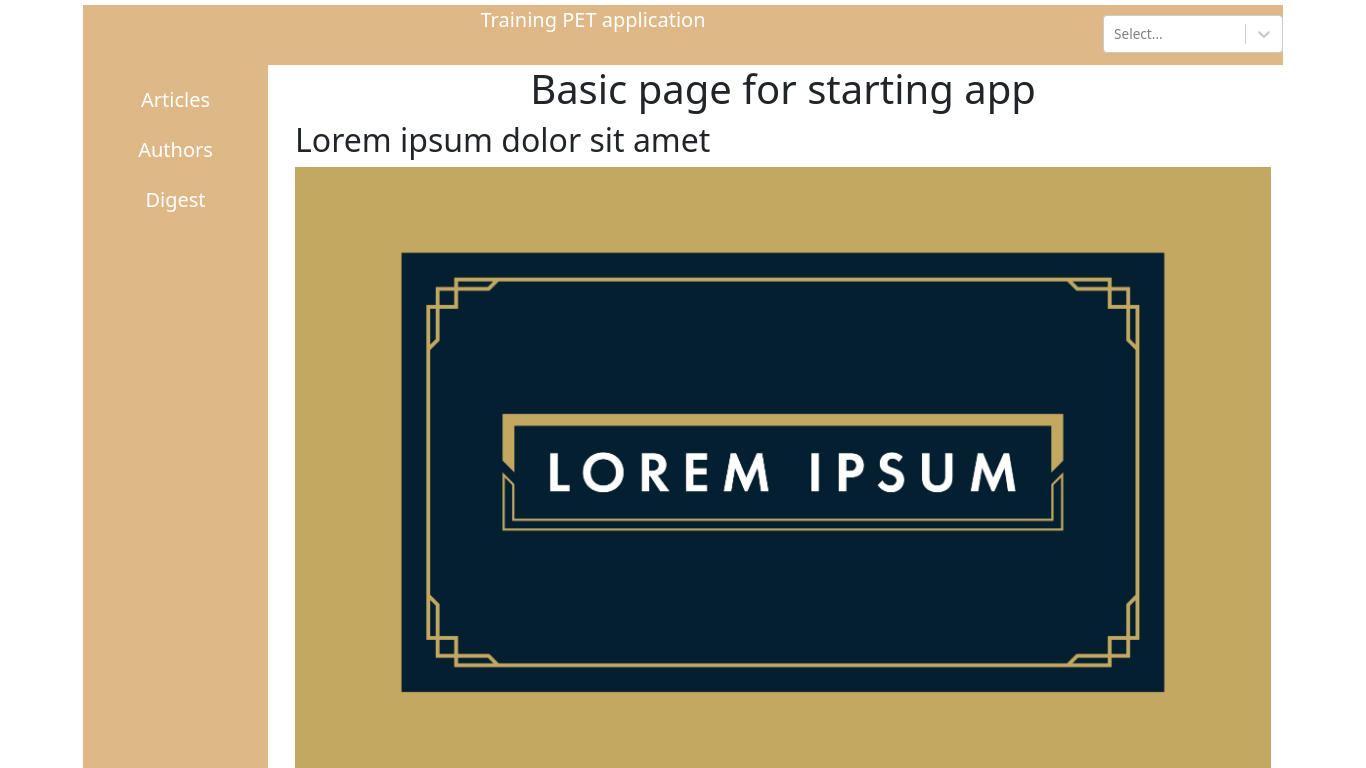
full app rendering/navigating/article
This screenshot has width=1366, height=768.
Expected: the heading "Basic page for starting app" is shown, [530, 61, 1036, 116]
Click the link "Articles": (176, 100) [141, 86, 210, 113]
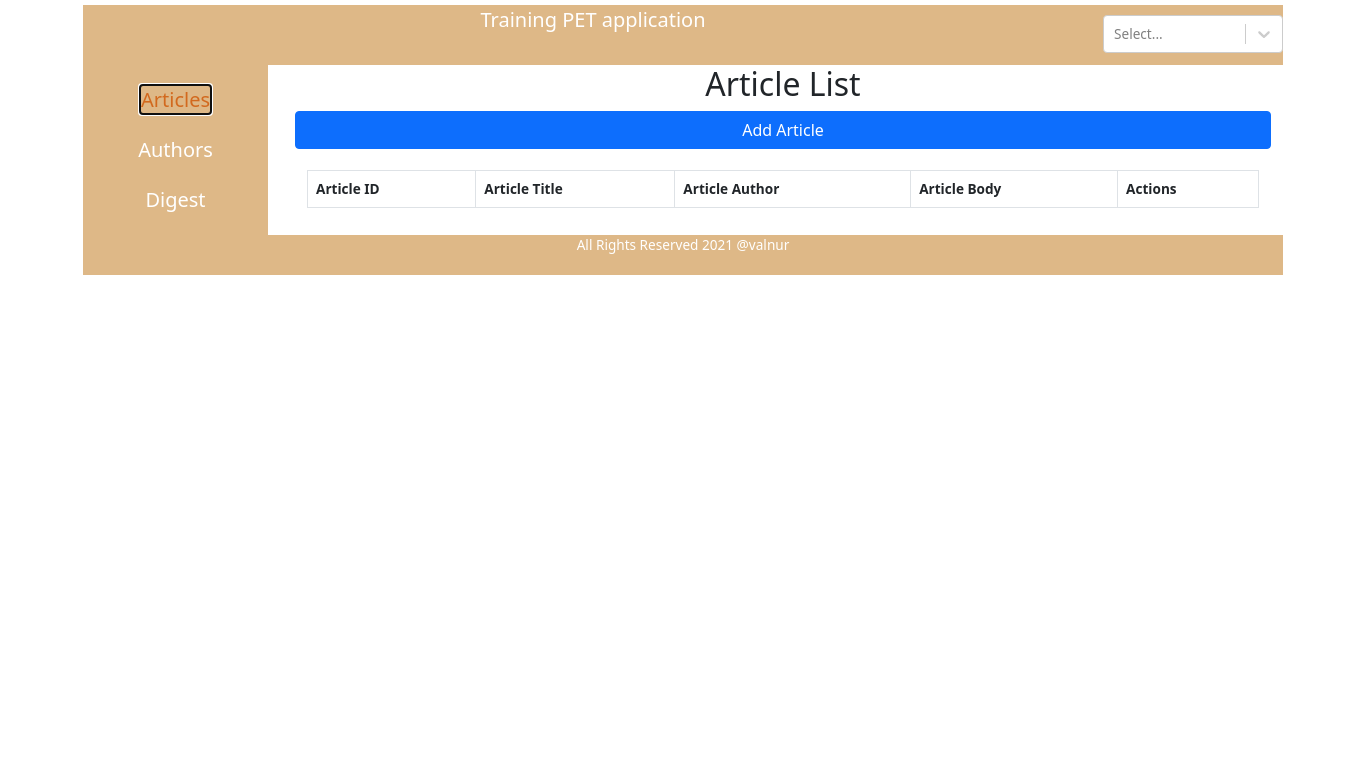
Result: the heading "Article List" is shown at [705, 62, 861, 105]
